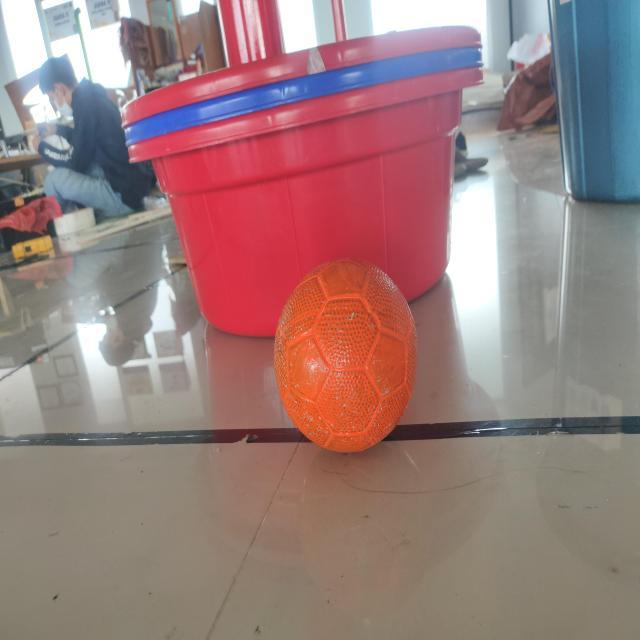bola: (272, 250, 423, 455)
